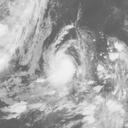cyclone: (41, 38, 86, 92)
